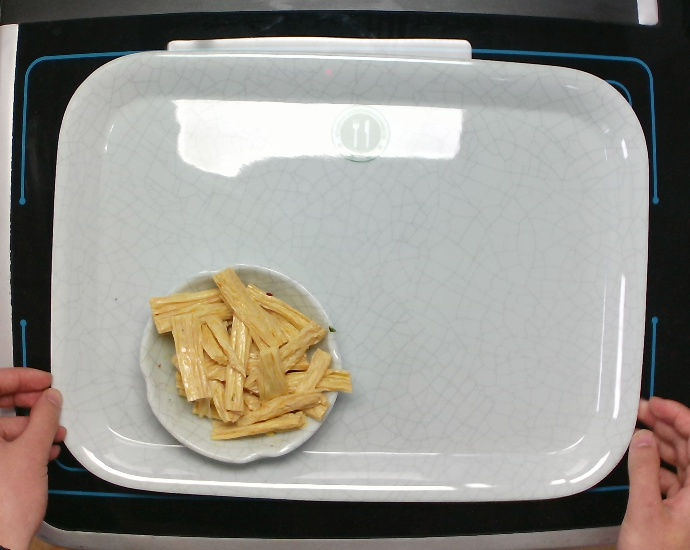JYsf-Ao_Yuan_Wan: (137, 252, 354, 471)
